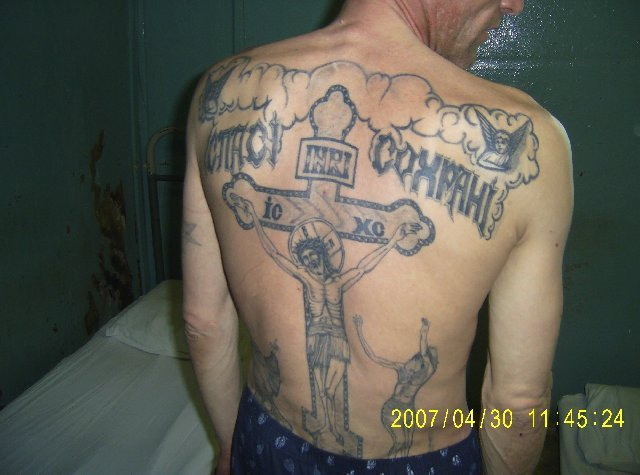tatu1_angel: (465, 105, 548, 180), (197, 67, 241, 121)
tatu3_bukva: (372, 130, 506, 235), (205, 127, 289, 171)
tatu9_krest: (224, 83, 437, 456)
